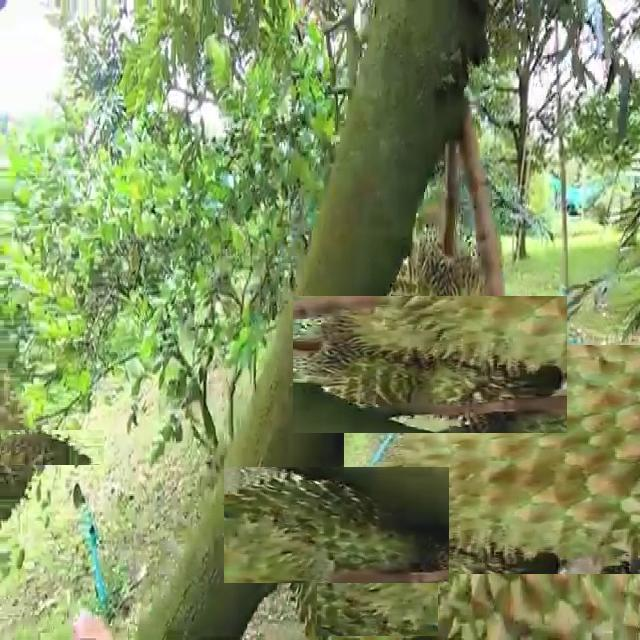durian: (377, 313, 640, 606), (328, 262, 534, 468), (251, 439, 422, 610), (318, 517, 438, 637), (0, 396, 71, 499)
